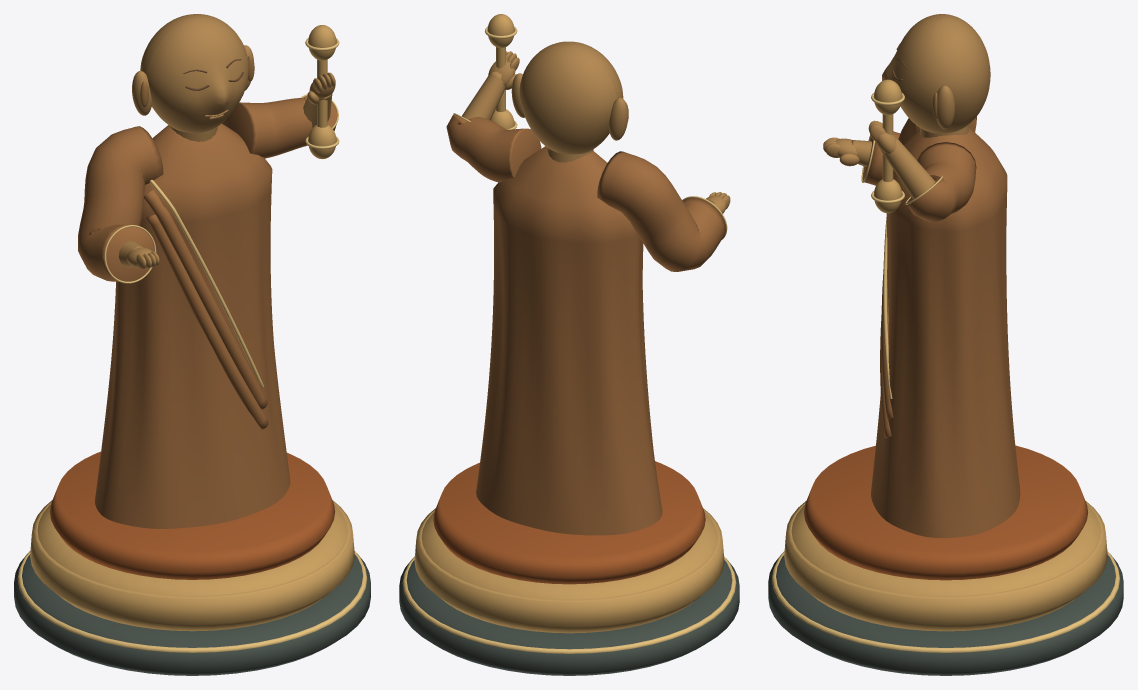
The model's file is arhat_09.glb.
3 renders of one model, left to right at view 1: azimuth 30°, elevation 25°; view 2: azimuth 150°, elevation 25°; view 3: azimuth 270°, elevation 25°, orthographic. The views are drawn at different scales.
Visible parts, largest first — view 1: arhat_09_ArhatDrapery, arhat_09_AntiqueGold, arhat_09_SaffronDrapery, arhat_09_CarvedPlinth, arhat_09_WarmBronze, arhat_09_RaisedGoldBorders; view 2: arhat_09_ArhatDrapery, arhat_09_AntiqueGold, arhat_09_SaffronDrapery, arhat_09_CarvedPlinth, arhat_09_WarmBronze, arhat_09_RaisedGoldBorders; view 3: arhat_09_ArhatDrapery, arhat_09_AntiqueGold, arhat_09_SaffronDrapery, arhat_09_CarvedPlinth, arhat_09_WarmBronze, arhat_09_RaisedGoldBorders.
Part boxes in pixels (left/top/right/bottom): arhat_09_ArhatDrapery: left=78, top=96, right=336, bottom=528; arhat_09_AntiqueGold: left=30, top=25, right=354, bottom=631; arhat_09_SaffronDrapery: left=49, top=451, right=335, bottom=579; arhat_09_CarvedPlinth: left=14, top=553, right=370, bottom=675; arhat_09_WarmBronze: left=118, top=14, right=335, bottom=269; arhat_09_RaisedGoldBorders: left=17, top=38, right=367, bottom=652; arhat_09_ArhatDrapery: left=446, top=114, right=725, bottom=535; arhat_09_AntiqueGold: left=414, top=14, right=724, bottom=633; arhat_09_SaffronDrapery: left=433, top=461, right=705, bottom=584; arhat_09_CarvedPlinth: left=399, top=558, right=739, bottom=675; arhat_09_WarmBronze: left=462, top=41, right=730, bottom=213; arhat_09_RaisedGoldBorders: left=402, top=26, right=736, bottom=653; arhat_09_ArhatDrapery: left=862, top=116, right=1020, bottom=538; arhat_09_AntiqueGold: left=784, top=79, right=1107, bottom=631; arhat_09_SaffronDrapery: left=803, top=445, right=1088, bottom=580; arhat_09_CarvedPlinth: left=768, top=554, right=1123, bottom=675; arhat_09_WarmBronze: left=823, top=14, right=990, bottom=198; arhat_09_RaisedGoldBorders: left=772, top=93, right=1119, bottom=652.
Bounding box in the file's own units: 0.92 × 1.67 × 0.92.
